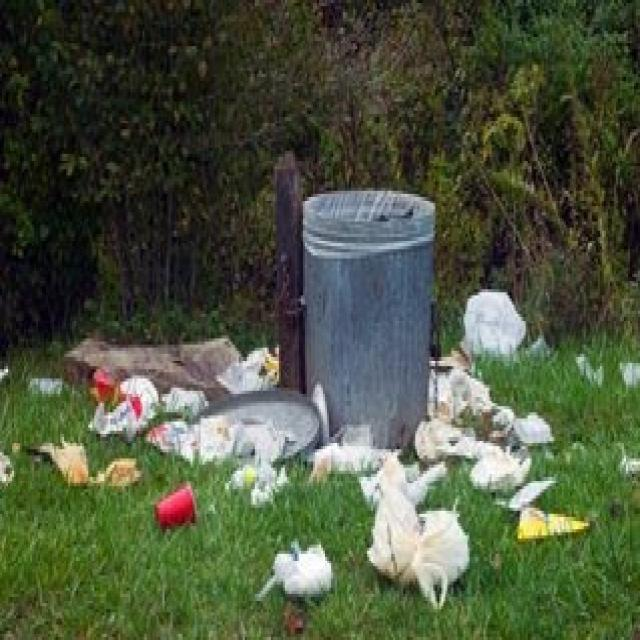garbage: (68, 176, 588, 622)
